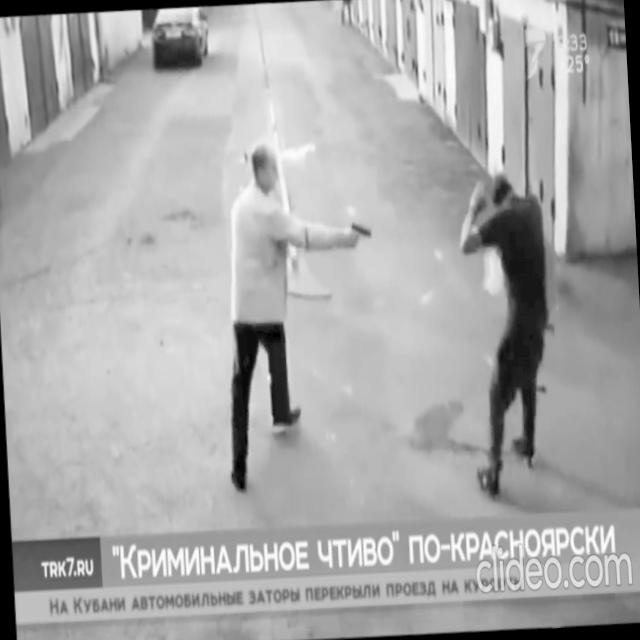gun: (351, 218, 374, 244)
person: (456, 166, 558, 504)
person with a gun: (215, 133, 386, 495)
